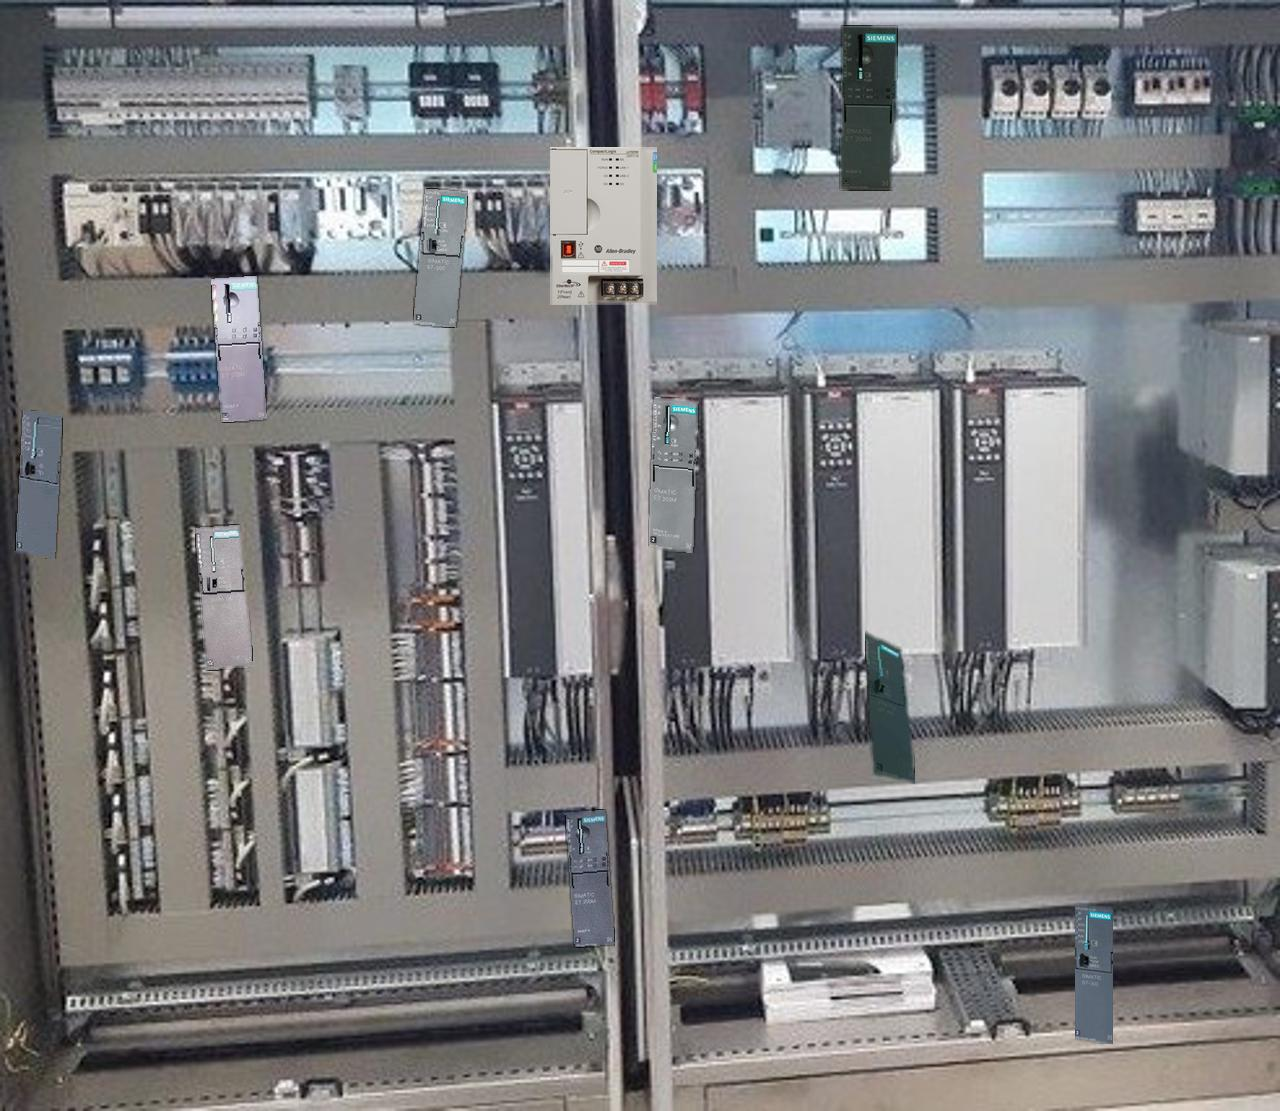AllenBradley: (550, 147, 656, 304)
Siemens: (195, 524, 253, 669), (414, 188, 467, 328), (865, 632, 914, 781), (16, 410, 62, 558), (1075, 904, 1112, 1044)
